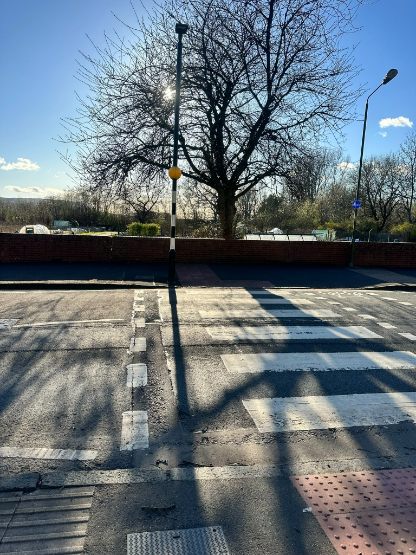tree: (78, 2, 328, 241)
